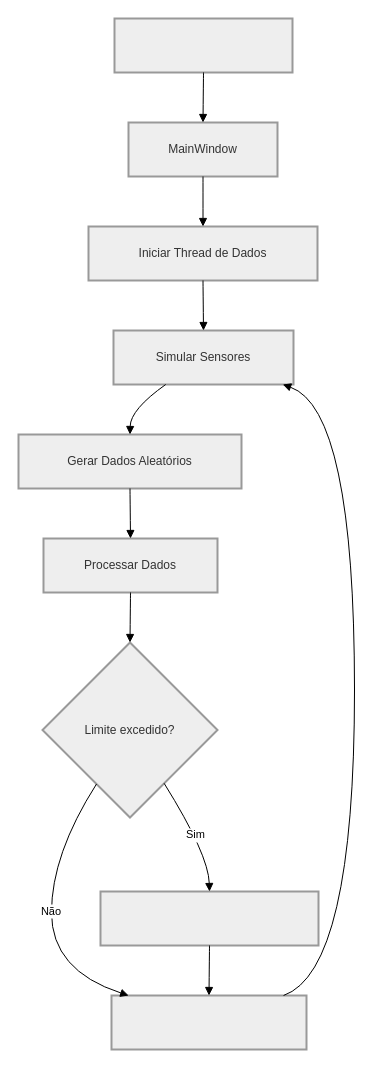
Some shapes in this 372 by 1067 pixel diagram are drawn without their labels. The shapes that lost their labels are listed below. From the top down, each one's centre as x and y in pixels, then its label:
At point 203,45: "Iniciar Aplicação".
At point 209,918: "Emitir sinal de parada".
At point 208,1022: "Atualizar Interface".
